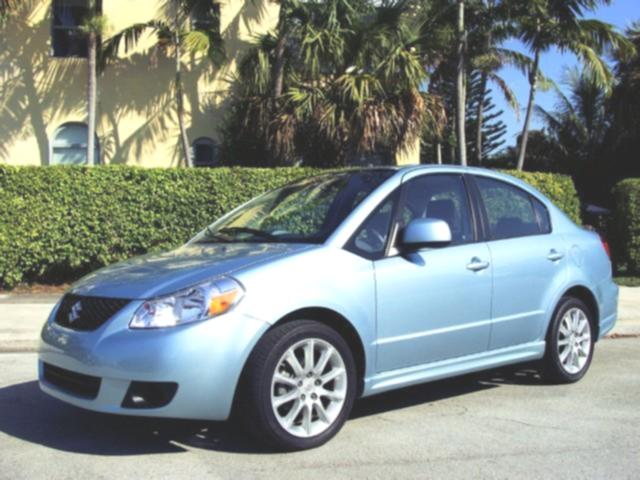suzuki: (60, 294, 94, 327)
